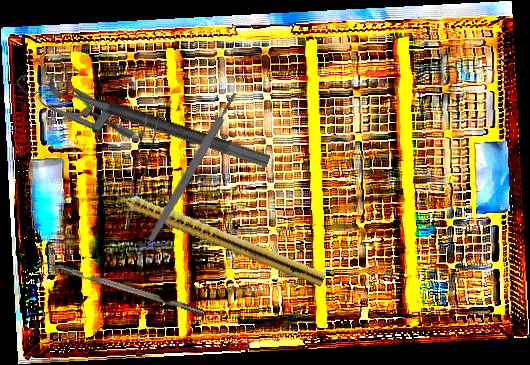Chopper: (33, 255, 205, 324)
Fixation Ring: (45, 60, 278, 169)
Handpiece: (101, 180, 329, 288)
Scalpel Handle: (146, 90, 240, 244)
Speculum: (13, 45, 137, 169)
Tissue Forceps: (124, 111, 161, 232)
